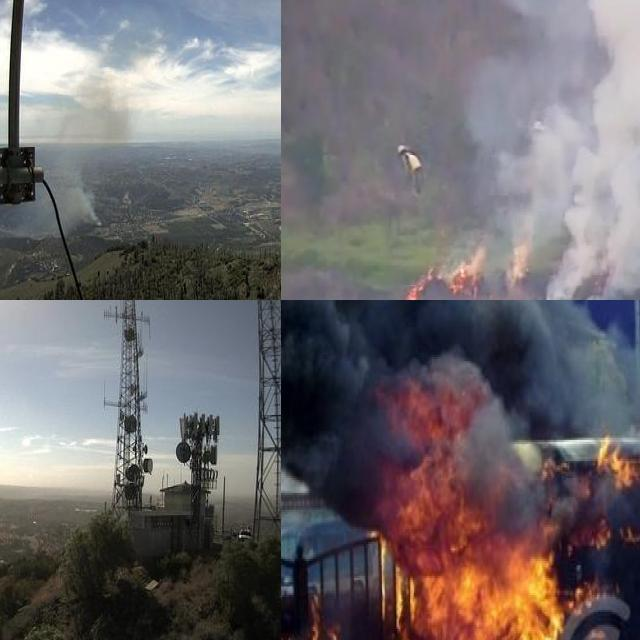fire: (374, 378, 640, 640), (287, 590, 343, 640), (446, 247, 486, 294), (502, 244, 532, 293), (405, 268, 434, 300)
smoke: (457, 0, 640, 300), (281, 300, 622, 433), (39, 68, 114, 230)
